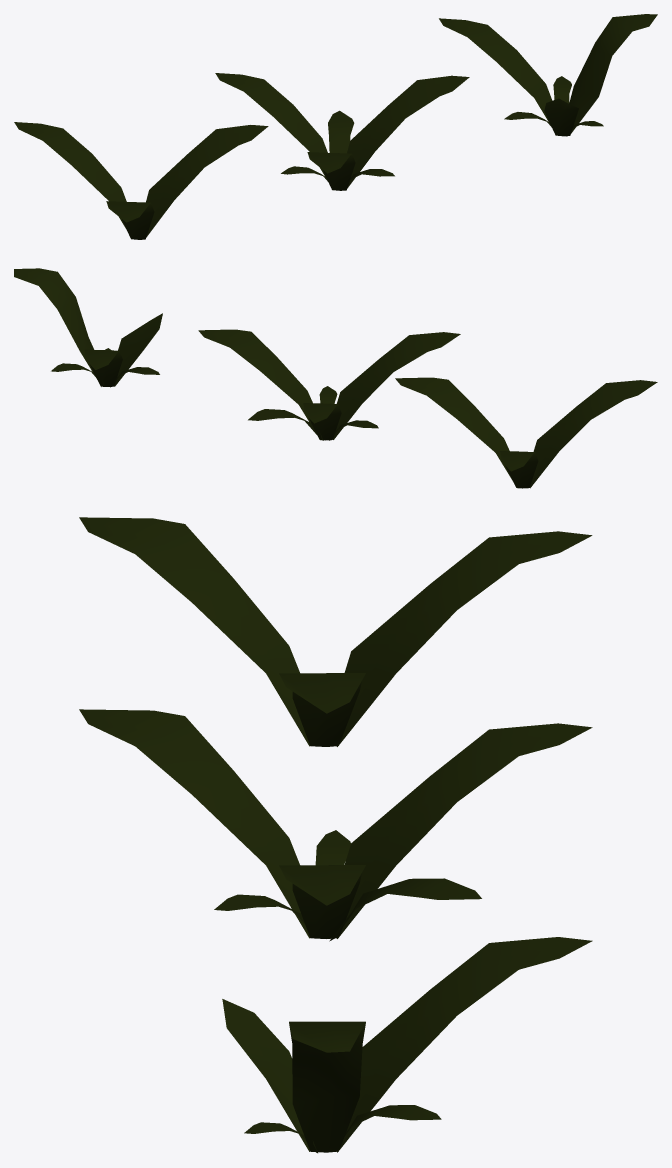
The model's file is OGplant.FBX.
3 views of the same model, one above another, from view 1: azimuth 30°, elevation 25°; view 2: azimuth 150°, elevation 25°; view 3: azimuth 270°, elevation 25° (orthographic). The views are drawn at different scales.
Parts seen in each view (by area): view 1: Plant002, Plant003, Plant001; view 2: Plant002, Plant001, Plant003; view 3: Plant002, Plant001, Plant003.
Boxes of the visible parts, x1,y1,x2,y2 form: Plant002: (215, 73, 469, 190); Plant003: (439, 14, 657, 136); Plant001: (14, 122, 268, 239); Plant002: (198, 329, 460, 440); Plant001: (395, 377, 657, 488); Plant003: (14, 268, 162, 387); Plant002: (79, 709, 592, 941); Plant001: (79, 517, 592, 746); Plant003: (222, 937, 592, 1153).
Bounding box in the file's own units: 140 × 21.75 × 53.56.
